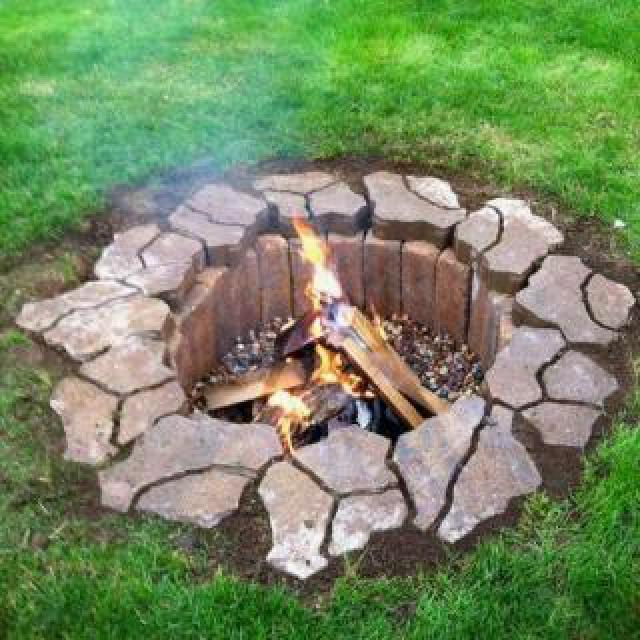Fire: (240, 208, 438, 444)
